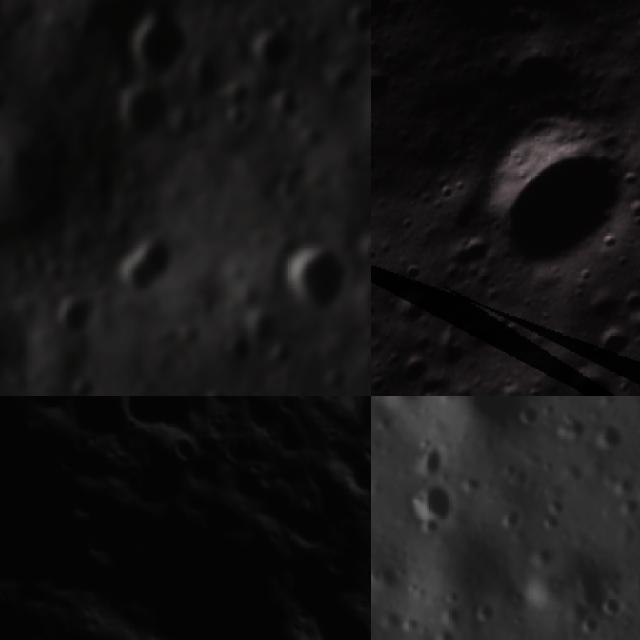crater: (446, 81, 640, 306), (400, 0, 594, 67), (448, 396, 548, 443), (124, 6, 196, 68), (280, 235, 338, 308), (381, 279, 446, 343), (549, 351, 629, 396), (406, 472, 468, 530), (582, 314, 640, 375), (565, 552, 618, 612), (120, 229, 163, 288), (119, 87, 177, 129), (161, 424, 207, 473), (371, 54, 406, 117), (243, 34, 298, 72), (609, 279, 640, 328), (55, 294, 88, 332), (338, 0, 371, 34), (377, 396, 430, 409), (629, 298, 640, 354)
